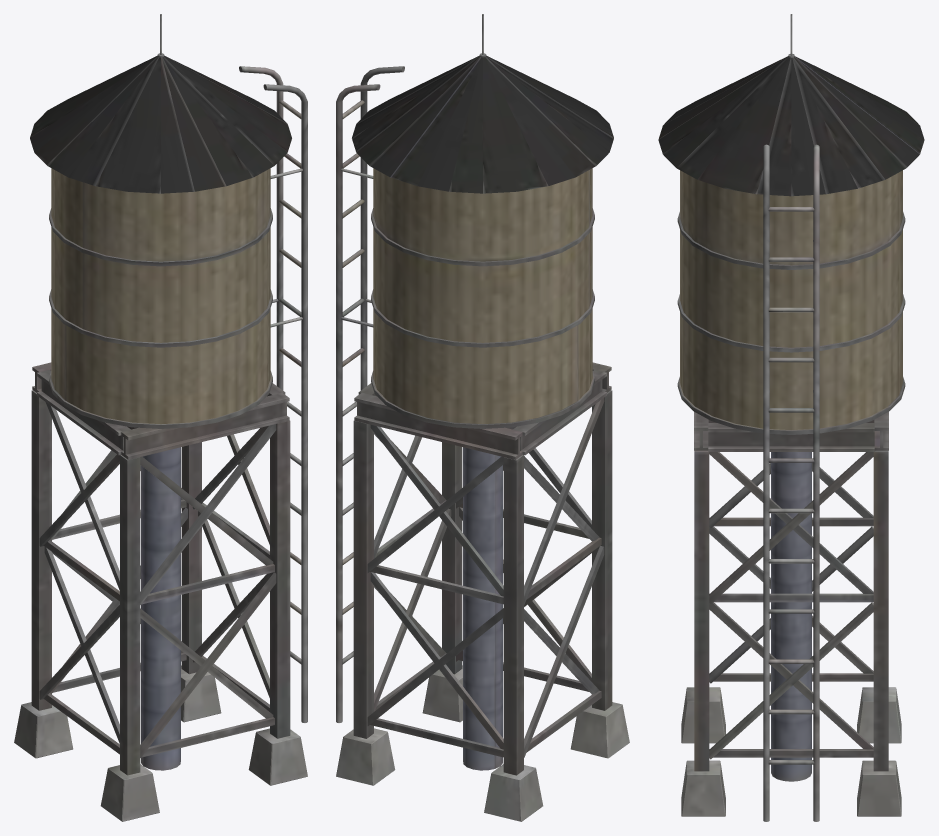
The model's file is Rooftop_Watertower.glb.
3 views of the same model, side by side, from view 1: azimuth 30°, elevation 25°; view 2: azimuth 150°, elevation 25°; view 3: azimuth 270°, elevation 25° (orthographic).
Parts seen in each view (by area): view 1: Cylinder_3; view 2: Cylinder_3; view 3: Cylinder_3.
Part boxes in pixels (bbox=[...]): Cylinder_3: bbox=[14, 14, 307, 821]; Cylinder_3: bbox=[336, 14, 629, 821]; Cylinder_3: bbox=[658, 14, 924, 821].
Size of the model in its own units: 2.09 by 6.04 by 1.92.
Materials: 1 (1 with a texture image).
